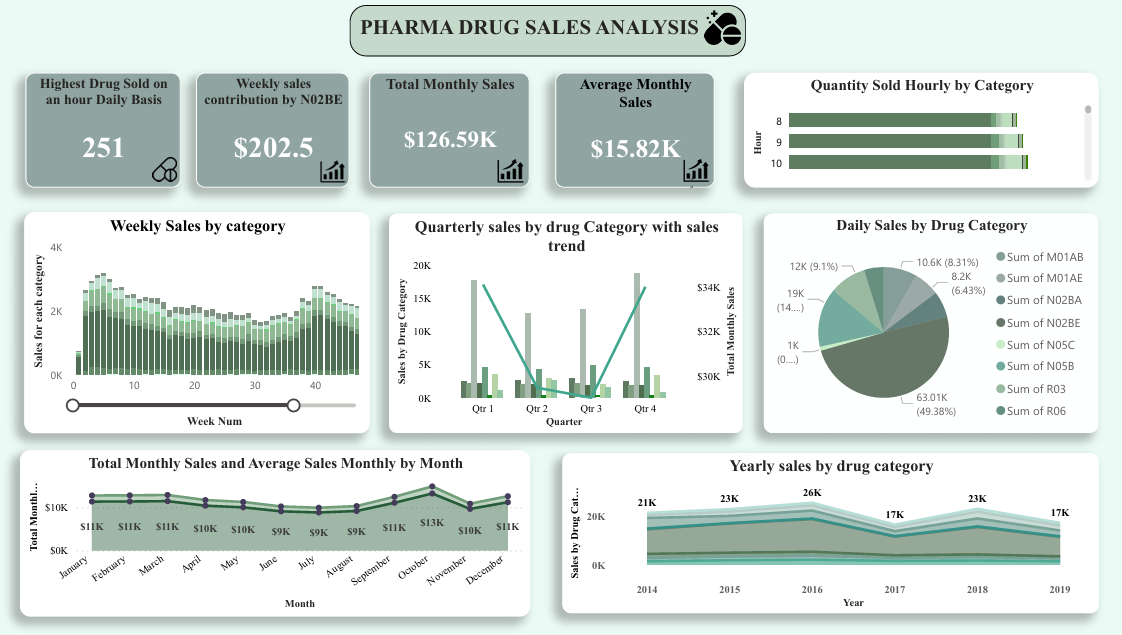

The dashboard page shown, as its layout file describes it:
{"tool":"powerbi","page":{"name":"Page 1","canvas":[1280,720],"ordinal":0},"visuals":[{"type":"columnChart","title":"Weekly Sales by category","fields":{"Category":["Sales Weekly.Week Num"],"Y":["CountNonNull(Sales Weekly.M01AB)","Sum(Sales Weekly.N02BA)","Sum(Sales Weekly.N02BE)","Sum(Sales Weekly.M01AE)","Sum(Sales Weekly.N05B)","Sum(Sales Weekly.N05C)","Sum(Sales Weekly.R03)","Sum(Sales Weekly.R06)"]},"box":[28.6,242.9,396.8,254],"z":0},{"type":"stackedAreaChart","fields":{"Category":["Sales Monthly.Date.Variation.Date Hierarchy.Month"],"Y":["Sales Monthly.Total Monthly Sales","Sales Monthly.Average Sales Monthly"]},"box":[24.3,516.1,585.7,190.9],"z":1000},{"type":"barChart","title":"Quantity Sold Hourly by Category","fields":{"Category":["Sales Hourly.Hour"],"Y":["CountNonNull(Sales Hourly.M01AB)","Count(Sales Hourly.M01AE)","Count(Sales Hourly.N02BA)","Count(Sales Hourly.N05B)","Count(Sales Hourly.N02BE)","Count(Sales Hourly.N05C)","Count(Sales Hourly.R03)","Count(Sales Hourly.R06)"]},"box":[855.4,82.1,407.1,132.1],"z":2000},{"type":"actionButton","box":[0,0,100,40],"z":3000},{"type":"pieChart","title":"Daily Sales by Drug Category","fields":{"Y":["Sum(Sales Daily.M01AB)","Sum(Sales Daily.M01AE)","Sum(Sales Daily.N02BA)","Sum(Sales Daily.N02BE)","Sum(Sales Daily.N05C)","Sum(Sales Daily.N05B)","Sum(Sales Daily.R03)","Sum(Sales Daily.R06)"]},"box":[879.4,244.4,384.1,252.4],"z":4000},{"type":"stackedAreaChart","title":"Yearly sales by drug category","fields":{"Category":["Sales Monthly.Date.Variation.Date Hierarchy.Year"],"Y":["Sum(Sales Monthly.M01AB)","Sum(Sales Monthly.M01AE)","Sum(Sales Monthly.N02BA)","Sum(Sales Monthly.N02BE)","Sum(Sales Monthly.N05C)","Sum(Sales Monthly.N05B)","Sum(Sales Monthly.R03)","Sum(Sales Monthly.R06)"]},"box":[647.2,519.4,616.4,184.4],"z":5000},{"type":"lineClusteredColumnComboChart","title":"Quarterly sales by drug  Category with sales trend","fields":{"Category":["Sales Monthly.Date.Variation.Date Hierarchy.Quarter"],"Y":["Sum(Sales Monthly.M01AB)","Sum(Sales Monthly.M01AE)","Sum(Sales Monthly.N02BE)","Sum(Sales Monthly.N02BA)","Sum(Sales Monthly.N05B)","Sum(Sales Monthly.N05C)","Sum(Sales Monthly.R03)","Sum(Sales Monthly.R06)"],"Y2":["Sales Monthly.Total Monthly Sales"]},"box":[447.6,244.4,406.3,252.4],"z":6000},{"type":"textbox","box":[403.6,5.4,455.4,58.9],"z":7000},{"type":"card","title":"Weekly sales contribution by N02BE","fields":{"Values":["Sales Weekly.weekly sales contribution by N02BE"]},"box":[227,82.5,176.2,131.7],"z":8000},{"type":"card","title":"Highest Drug Sold on an hour Daily  Basis","fields":{"Values":["Count(Sales Hourly.N02BE)"]},"box":[30.2,82.5,177.8,131.7],"z":9000},{"type":"card","title":"Total Monthly Sales","fields":{"Values":["Sales Monthly.Total Monthly Sales"]},"box":[425.4,82.5,184.1,131.7],"z":10000},{"type":"card","title":"Average Monthly Sales","fields":{"Values":["Sales Monthly.Average Sales Monthly"]},"box":[639.7,82.5,182.5,131.7],"z":11000},{"type":"image","box":[779.4,174.6,42.9,39.7],"z":12000},{"type":"image","box":[788.9,184.1,12.7,58.7],"z":13000},{"type":"image","box":[566.1,175,42.9,41.1],"z":14000},{"type":"image","box":[576.8,185.7,10.7,41.1],"z":15000},{"type":"image","box":[789.3,183.9,12.5,41.1],"z":16000},{"type":"image","box":[364.3,171.4,39.3,48.2],"z":17000},{"type":"image","box":[171.4,171.4,37.5,44.6],"z":17001},{"type":"image","box":[801.8,5.4,57.1,51.8],"z":17002}]}

Visuals, with their boxes in screenshot pixels (x1, y1, x2, y2), scaled from the page's 1280x720 canvas onto the 1122x635 screenshot:
"Weekly Sales by category" columnChart: [left=25, top=214, right=373, bottom=438]
stackedAreaChart - Sales Monthly.Date.Variation.Date Hierarchy.Month x Sales Monthly.Total Monthly Sales: [left=21, top=455, right=535, bottom=624]
"Quantity Sold Hourly by Category" barChart: [left=750, top=72, right=1107, bottom=189]
actionButton: [left=0, top=0, right=88, bottom=35]
"Daily Sales by Drug Category" pieChart: [left=771, top=216, right=1108, bottom=438]
"Yearly sales by drug category" stackedAreaChart: [left=567, top=458, right=1108, bottom=621]
"Quarterly sales by drug  Category with sales trend" lineClusteredColumnComboChart: [left=392, top=216, right=748, bottom=438]
textbox: [left=354, top=5, right=753, bottom=57]
"Weekly sales contribution by N02BE" card: [left=199, top=73, right=353, bottom=189]
"Highest Drug Sold on an hour Daily  Basis" card: [left=26, top=73, right=182, bottom=189]
"Total Monthly Sales" card: [left=373, top=73, right=534, bottom=189]
"Average Monthly Sales" card: [left=561, top=73, right=721, bottom=189]
image: [left=683, top=154, right=721, bottom=189]
image: [left=692, top=162, right=703, bottom=214]
image: [left=496, top=154, right=534, bottom=191]
image: [left=506, top=164, right=515, bottom=200]
image: [left=692, top=162, right=703, bottom=198]
image: [left=319, top=151, right=354, bottom=194]
image: [left=150, top=151, right=183, bottom=190]
image: [left=703, top=5, right=753, bottom=50]
